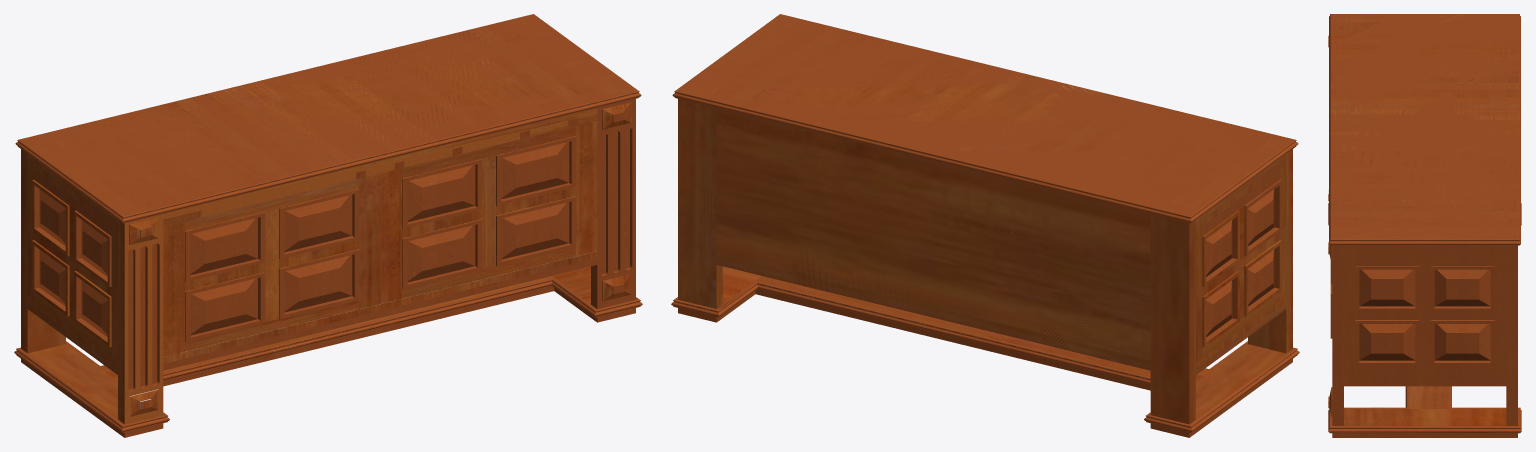
Rendered from Decoration8 Wood.fbx.
The picture shows the model from 3 angles, left to right: view 1: azimuth 30°, elevation 25°; view 2: azimuth 150°, elevation 25°; view 3: azimuth 270°, elevation 25°; orthographic projection. The views are drawn at different scales.
Parts seen in each view (by area): view 1: SketchUp.050, SketchUp.041, SketchUp, SketchUp.031, SketchUp.005, SketchUp.003, SketchUp.042, SketchUp.001, SketchUp.235, SketchUp.027, SketchUp.244, SketchUp.239 (+37 smaller); view 2: SketchUp, SketchUp.050, SketchUp.003, SketchUp.001, SketchUp.043, SketchUp.027, SketchUp.192, SketchUp.201, SketchUp.200, SketchUp.031, SketchUp.197, SketchUp.194 (+2 smaller); view 3: SketchUp.050, SketchUp.005, SketchUp, SketchUp.003, SketchUp.055, SketchUp.176, SketchUp.059, SketchUp.063, SketchUp.027, SketchUp.028, SketchUp.051, SketchUp.001 (+6 smaller).
Boxes of the visible parts, x1,y1,x2,y2 form: SketchUp.050: (21,15,635,215); SketchUp.041: (163,120,597,356); SketchUp: (21,149,597,419); SketchUp.031: (118,108,597,424); SketchUp.005: (163,98,635,370); SketchUp.003: (14,277,642,432); SketchUp.042: (15,92,641,223); SketchUp.001: (21,286,635,437); SketchUp.235: (163,251,597,363); SketchUp.027: (17,14,639,217); SketchUp.244: (407,225,477,284); SketchUp.239: (501,142,566,197); SketchUp: (678,98,1286,424); SketchUp.050: (678,15,1292,215); SketchUp.003: (671,281,1299,432); SketchUp.001: (678,289,1292,437); SketchUp.043: (672,92,1191,223); SketchUp.027: (674,14,1296,217); SketchUp.192: (1206,216,1237,281); SketchUp.201: (1206,276,1237,342); SketchUp.200: (1248,246,1279,311); SketchUp.031: (1286,149,1292,353); SketchUp.197: (1202,161,1281,236); SketchUp.194: (1248,185,1279,251); SketchUp.050: (1332,15,1517,238); SketchUp.005: (1332,245,1517,425); SketchUp: (1344,386,1506,425); SketchUp.003: (1328,203,1521,433); SketchUp.055: (1434,269,1490,306); SketchUp.176: (1359,269,1415,306); SketchUp.059: (1434,324,1490,360); SketchUp.063: (1359,324,1415,360); SketchUp.027: (1330,14,1519,240); SketchUp.028: (1329,240,1520,245); SketchUp.051: (1344,374,1506,379); SketchUp.001: (1332,433,1517,437).
Size of the model in its own units: 244 by 99.6 by 87.51.
